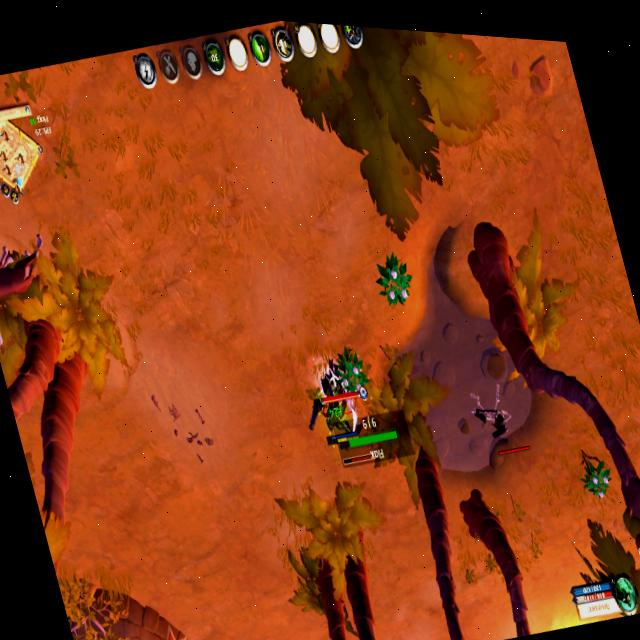hide: (372, 248, 418, 314), (334, 341, 372, 403), (578, 450, 616, 503)
ore: (0, 215, 67, 352), (304, 375, 380, 476), (465, 374, 532, 466)
red: (312, 351, 351, 413)
